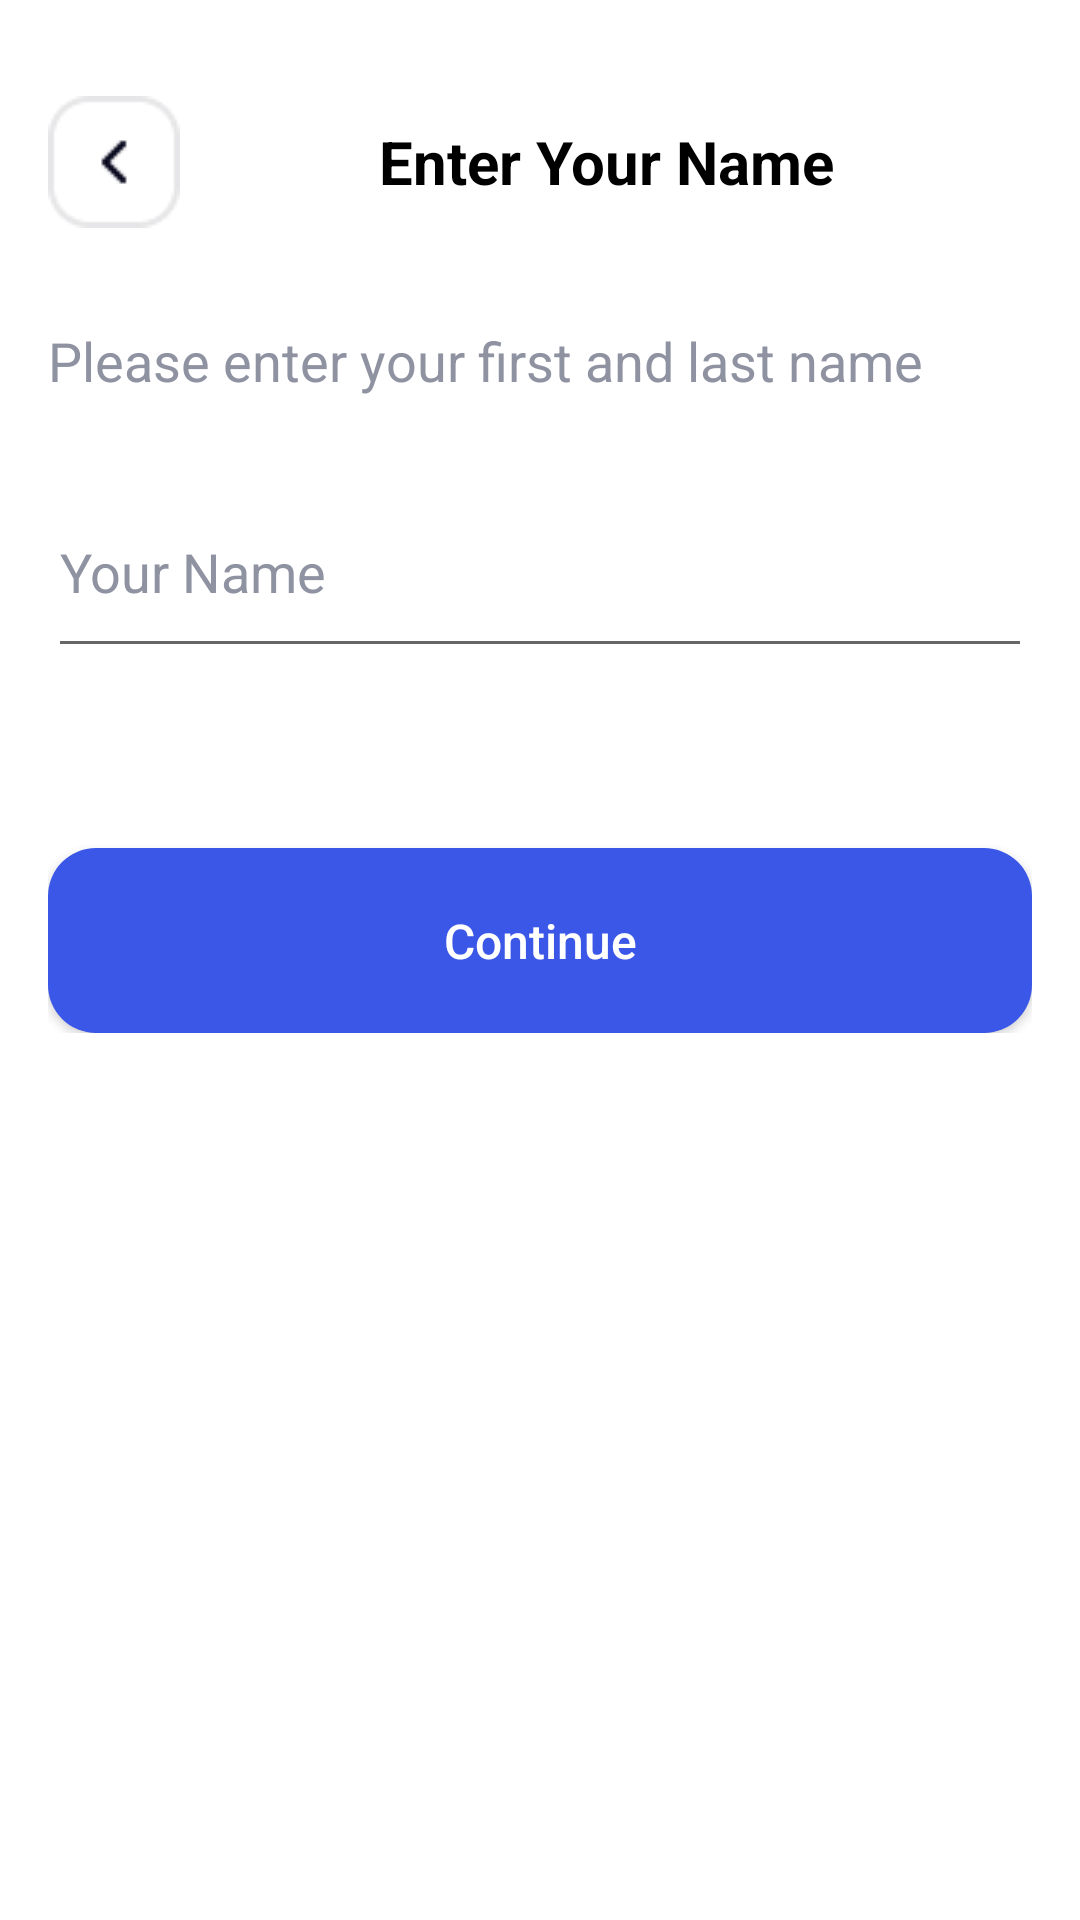

Icons on this 1080 x 1920 Android screen, each with its box as (x1=x1, y1=y1, x2=x2, y2=y2):
back arrow: (x1=48, y1=96, x2=180, y2=228)
